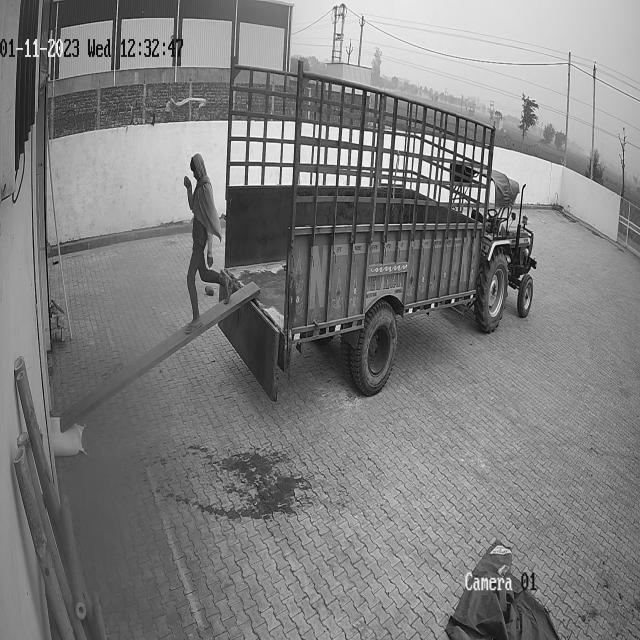sack: (50, 416, 83, 456)
